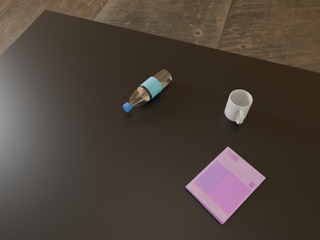book: (186, 147, 265, 224)
bottle: (123, 69, 172, 112)
cup: (225, 90, 252, 124)
